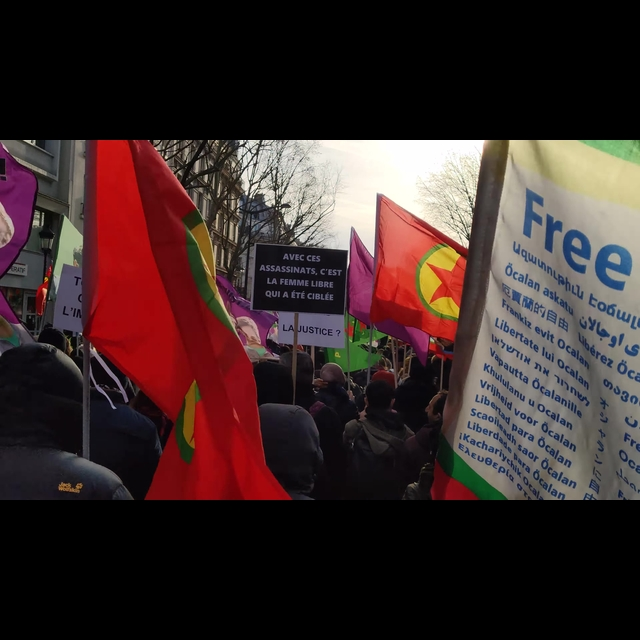PKK: (413, 235, 481, 323)
